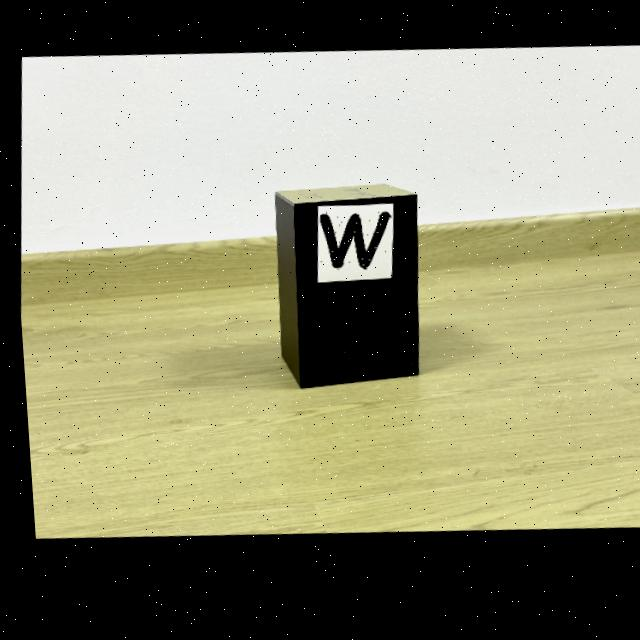W: (316, 219, 386, 275)
